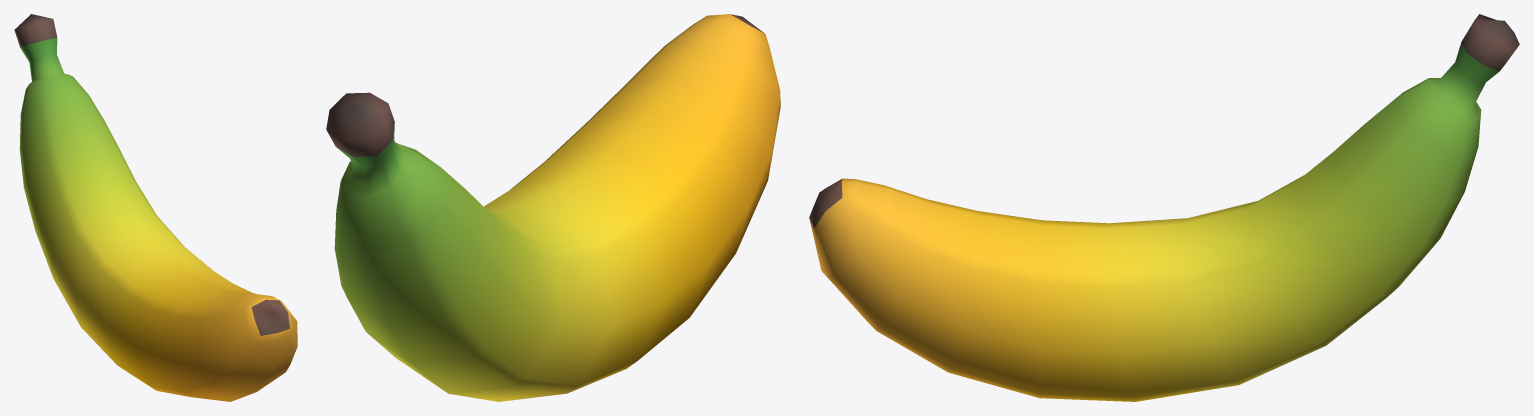
File: banana_001.fbx
The picture shows the model from 3 angles, left to right: view 1: azimuth 30°, elevation 25°; view 2: azimuth 150°, elevation 25°; view 3: azimuth 270°, elevation 25°; orthographic projection. The views are drawn at different scales.
Parts seen in each view (by area): view 1: banana_001; view 2: banana_001; view 3: banana_001.
Part boxes in pixels (bbox=[...]): banana_001: bbox=[14, 14, 297, 401]; banana_001: bbox=[326, 14, 780, 401]; banana_001: bbox=[809, 14, 1519, 401].
Bounding box in the file's own units: 5.47 × 19.94 × 11.56.
